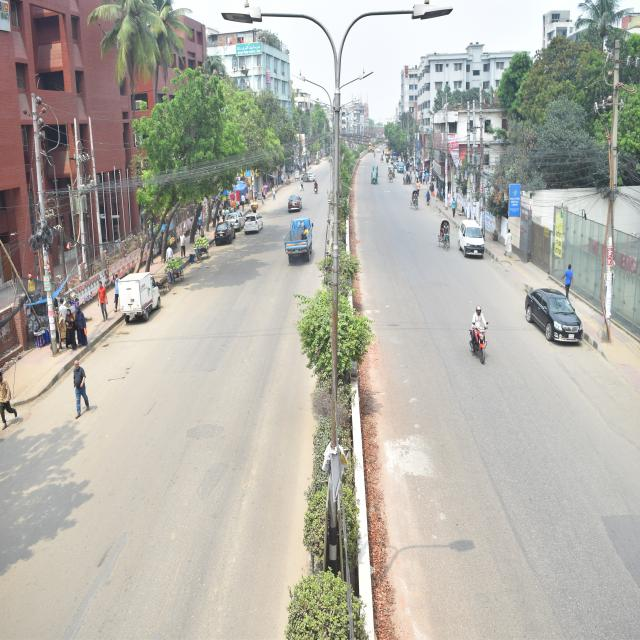car: (523, 284, 589, 349), (211, 218, 238, 245), (286, 190, 304, 213), (246, 212, 264, 233), (227, 207, 244, 229)
microbus: (456, 216, 490, 269)
motorbike: (466, 316, 490, 365)
pickup-van: (117, 270, 164, 322), (283, 216, 314, 264)
